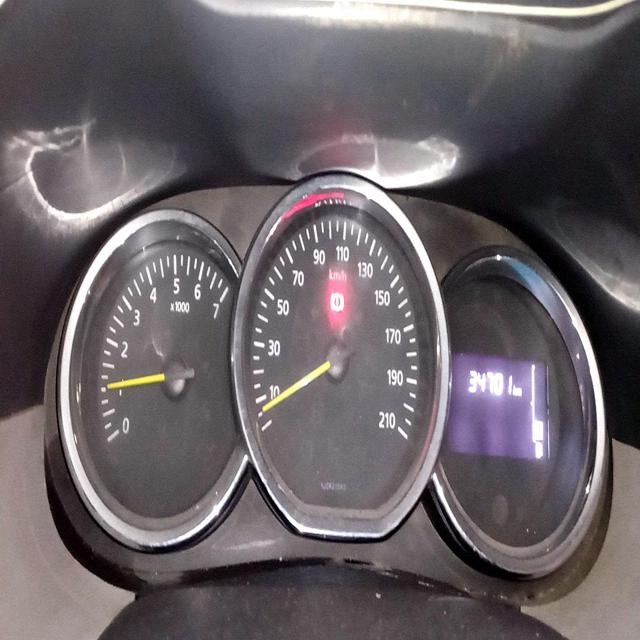odometer: (462, 363, 512, 400)
